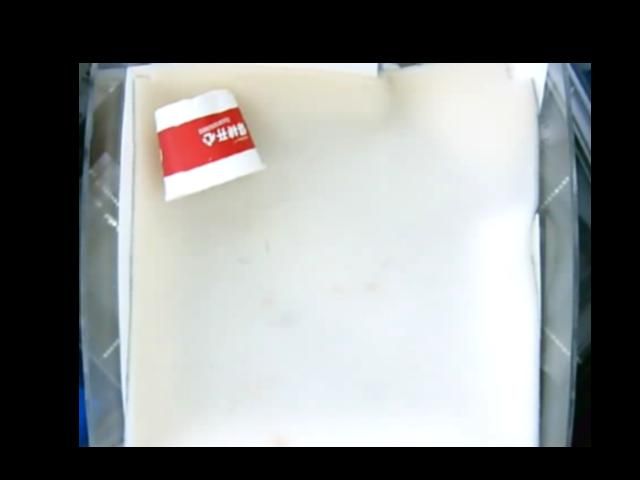Cup: (152, 87, 258, 201)
